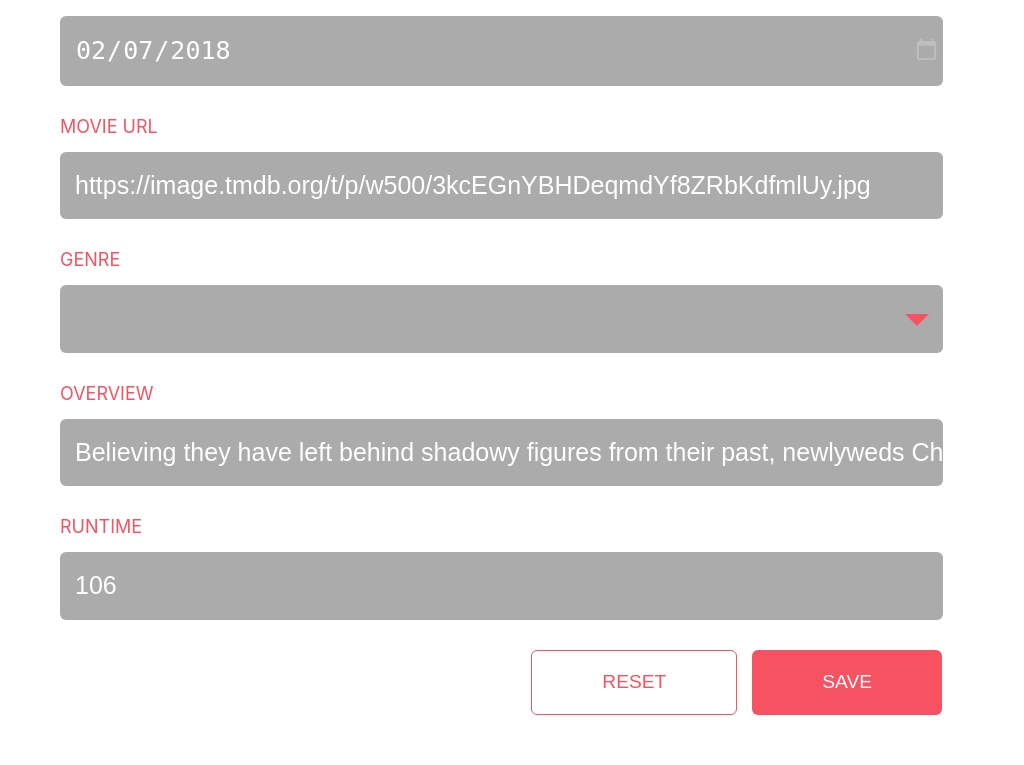
Test: movie form › check validation in form dropdown
(page scrolled)
Click the button "SAVE": (847, 682) 752,650 -> 942,714
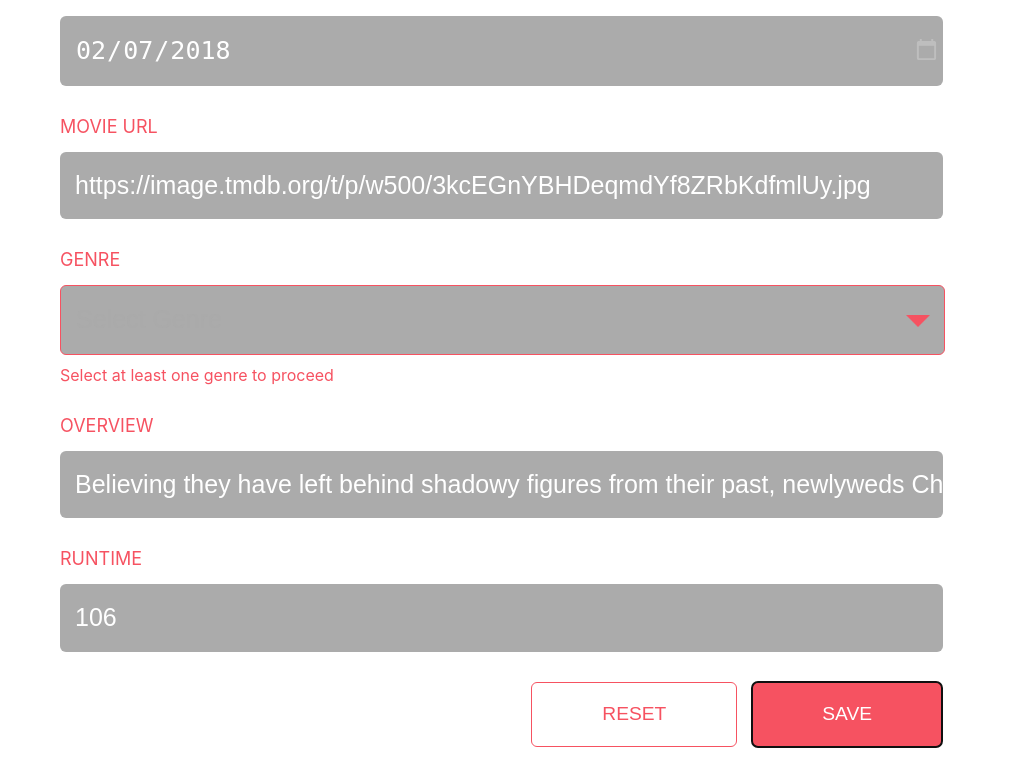
Now the text "Select at least one genre to proceed" is shown, box 60,364 -> 334,384
